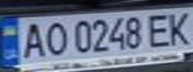0: (69, 17, 93, 55)
2: (90, 16, 112, 54)
4: (106, 15, 130, 52)
8: (124, 13, 148, 51)
A: (15, 19, 48, 61)
E: (145, 11, 175, 48)
K: (163, 8, 193, 46)
O: (39, 19, 69, 57)
